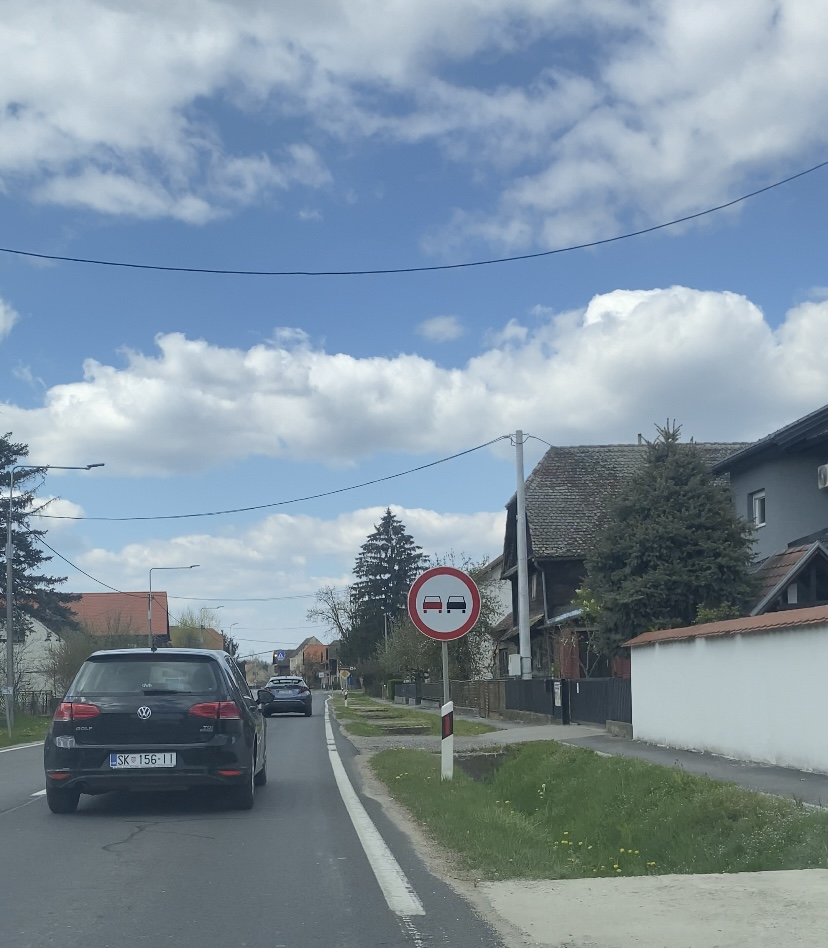Zabrana pretjecanja: (408, 567, 481, 641)
